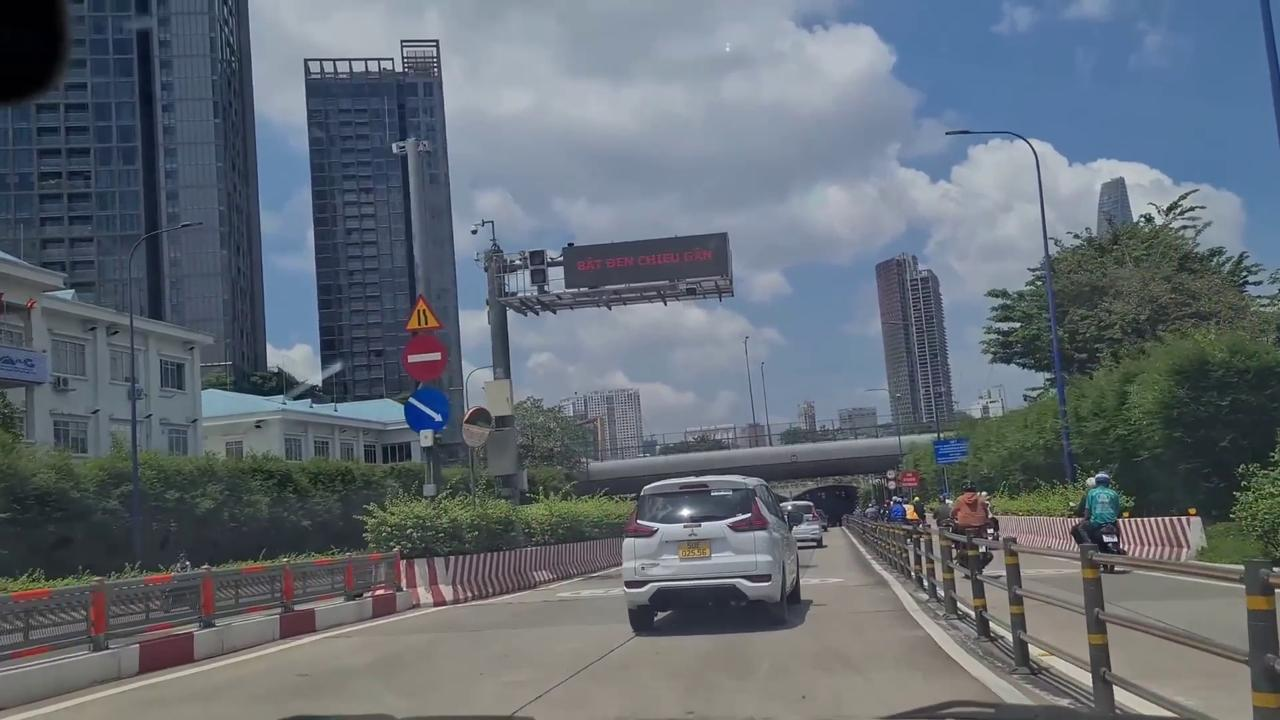Cấm đi ngược chiều: (401, 334, 448, 383)
Hướng phải đi vòng sang phải: (404, 386, 451, 433)
Đuờng hẹp: (402, 294, 443, 330)
